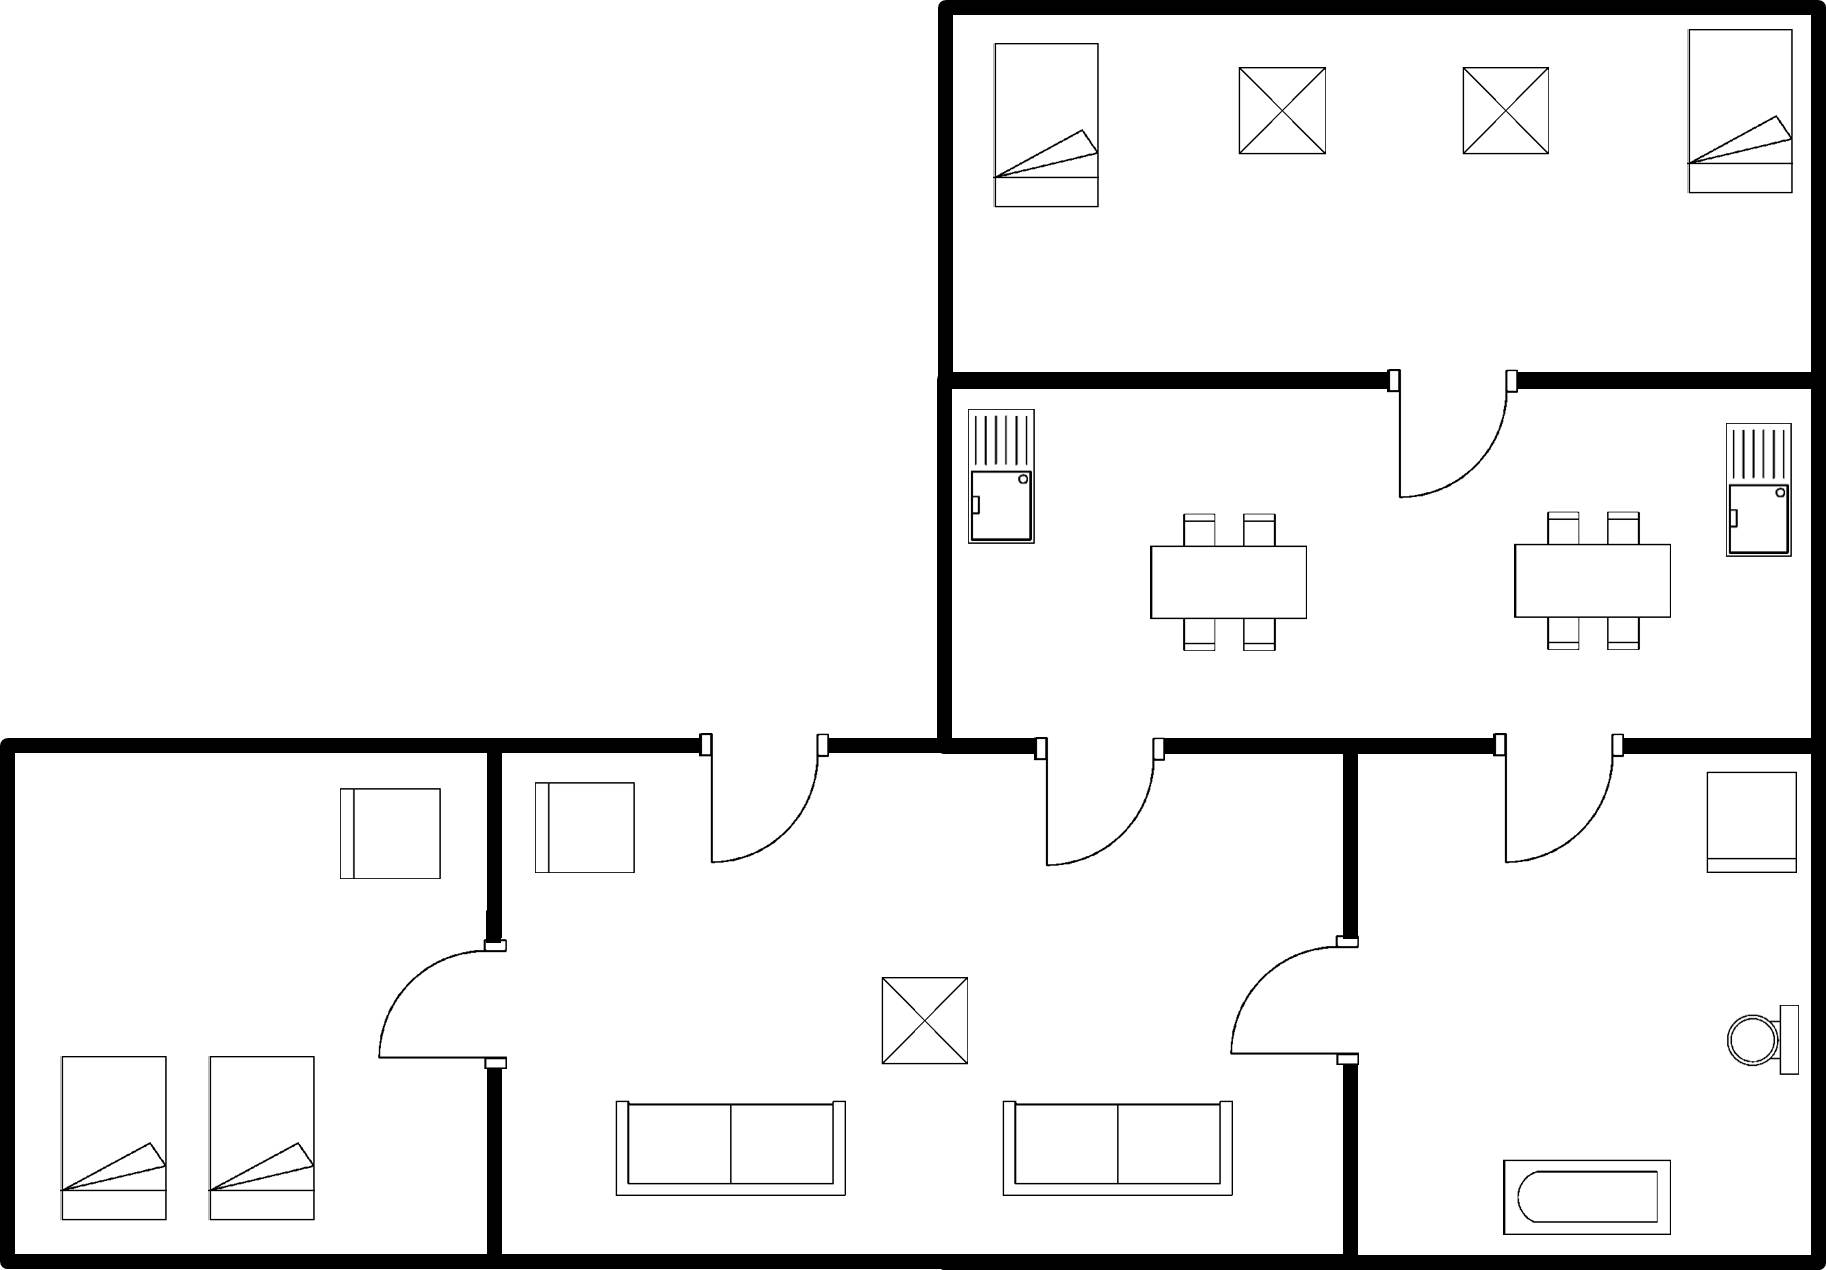bed: (199, 1045, 331, 1232), (982, 34, 1109, 216), (51, 1045, 177, 1229), (1677, 21, 1799, 207)
coffee_table: (1225, 56, 1339, 173), (1453, 60, 1560, 165), (872, 969, 976, 1077)
dining_table: (1499, 500, 1679, 663), (1140, 504, 1317, 663)
large_sink: (1713, 995, 1808, 1087)
large_sofa: (604, 1091, 856, 1208), (995, 1090, 1239, 1206)
sink: (1717, 416, 1800, 567), (964, 400, 1044, 554)
small_sofa: (329, 778, 452, 893), (526, 772, 646, 885), (1698, 764, 1807, 882)
tub: (1494, 1151, 1682, 1246)
